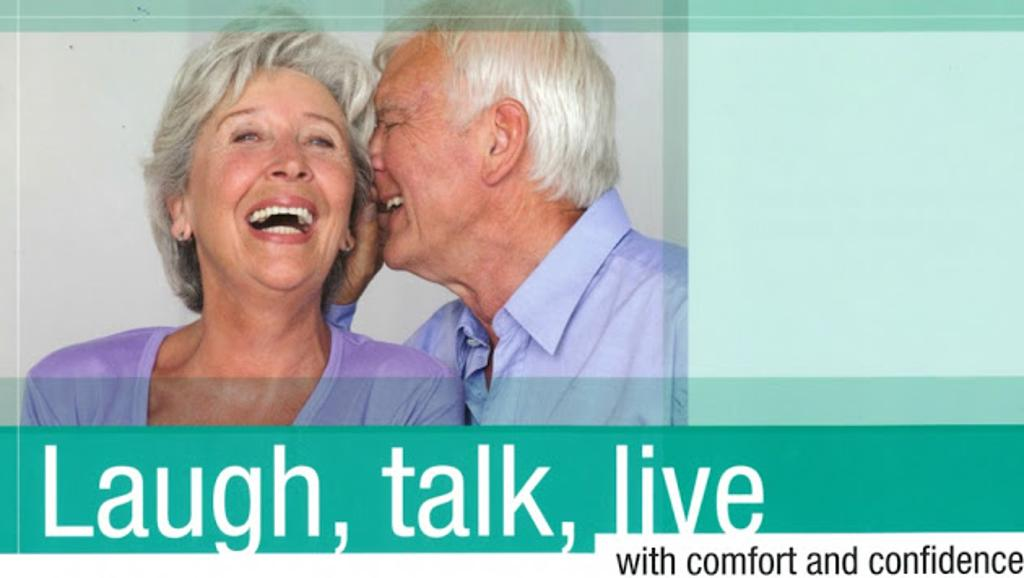face: (202, 76, 352, 278), (370, 60, 490, 266)
